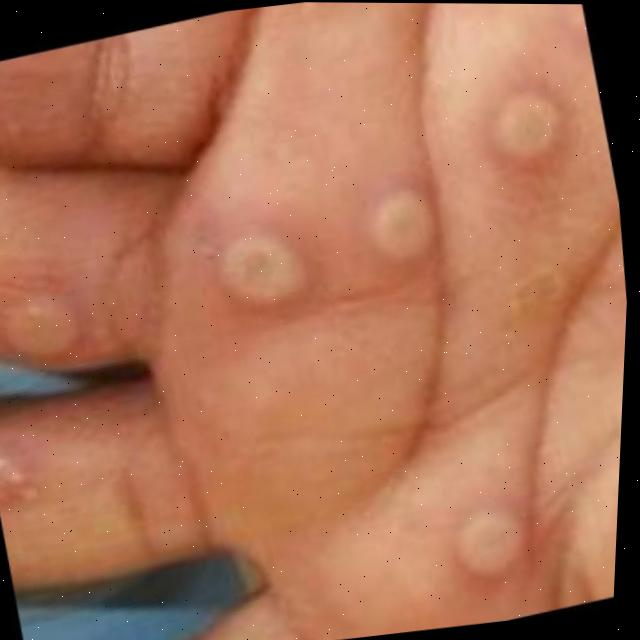Eczema: (214, 238, 290, 312), (11, 281, 85, 356), (490, 100, 562, 170), (374, 178, 430, 245), (462, 526, 520, 576)
